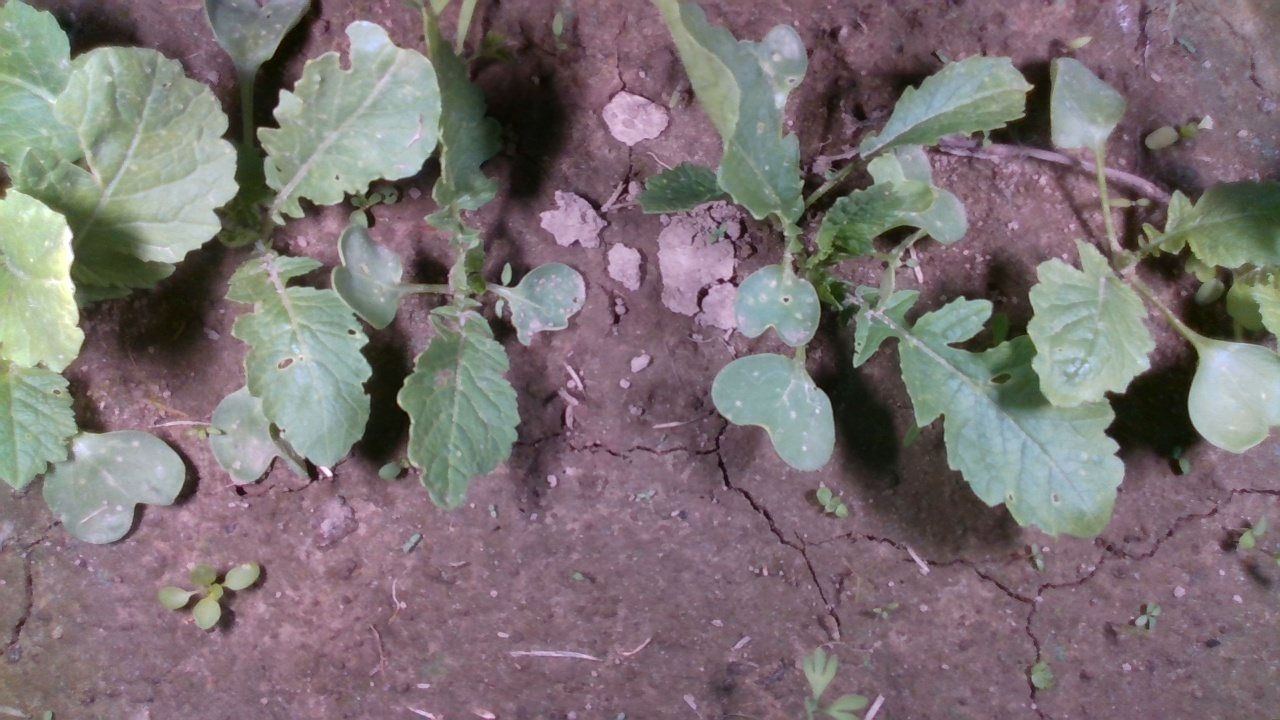weed: (485, 502, 498, 519)
